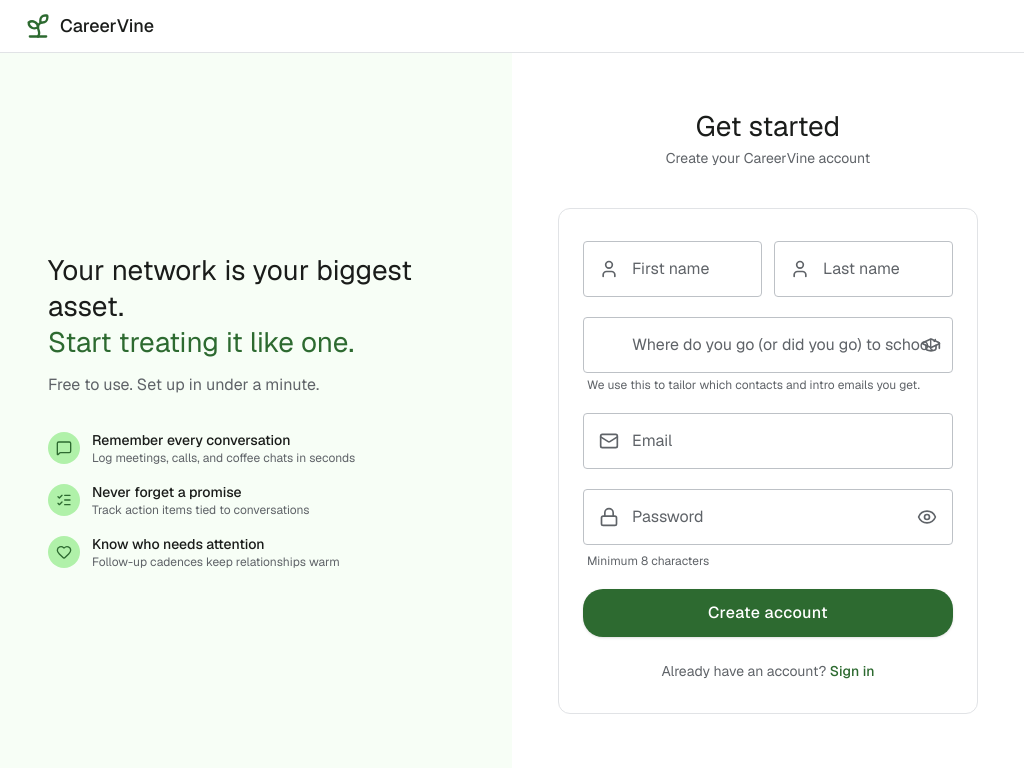
AuthForm — signup with an already-registered email › still shows the check-email screen for a genuinely new signup
Step 1. Type "Test" into the field with placeholder "First name" → (672, 268), box x1=583 y1=240 x2=762 y2=296
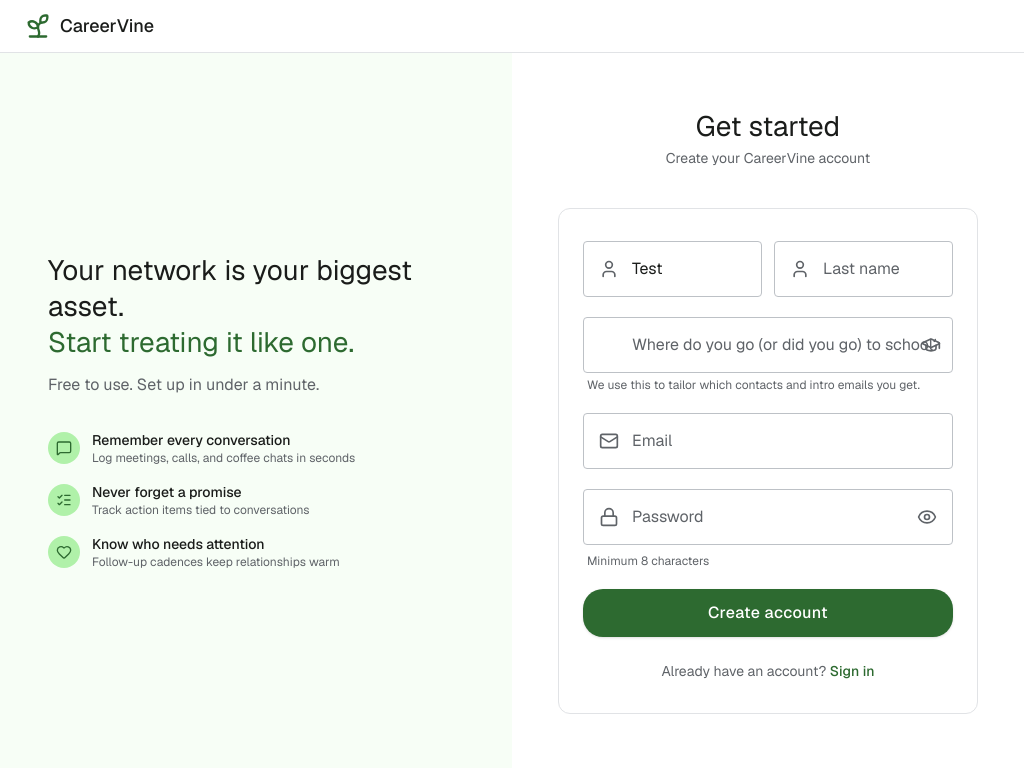
Step 2. Type "User" into the field with placeholder "Last name" → (864, 268), box x1=774 y1=240 x2=953 y2=296
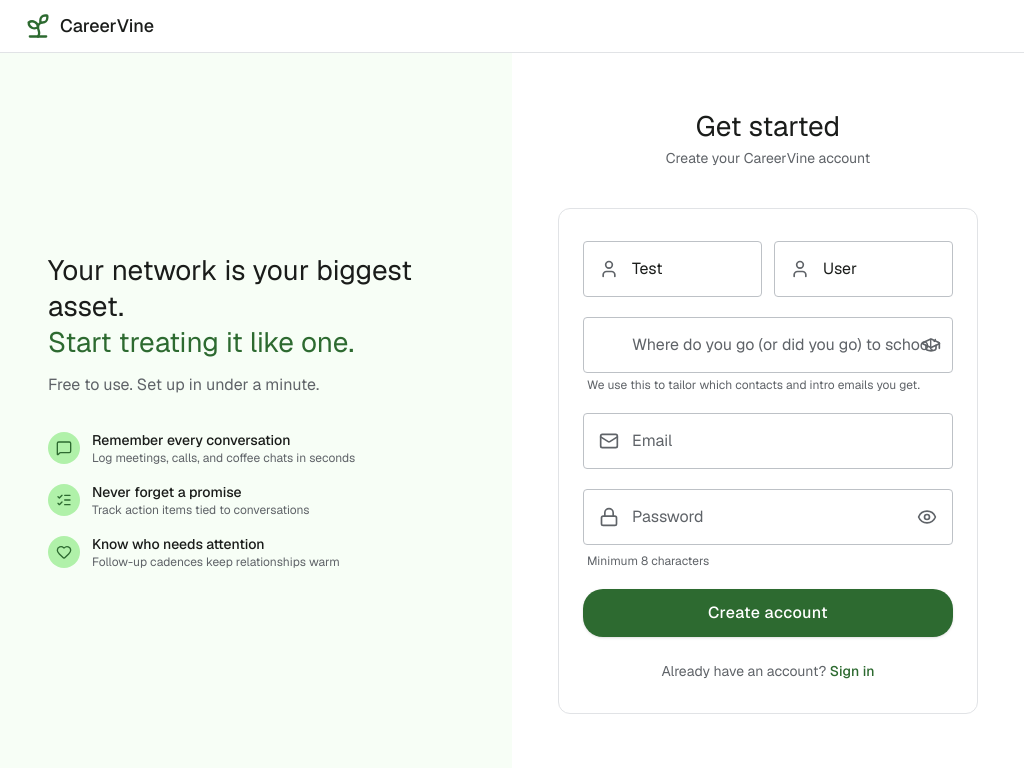
Step 3. Type "taken@example.com" into the field with placeholder "Email" → (768, 440), box x1=583 y1=412 x2=953 y2=468
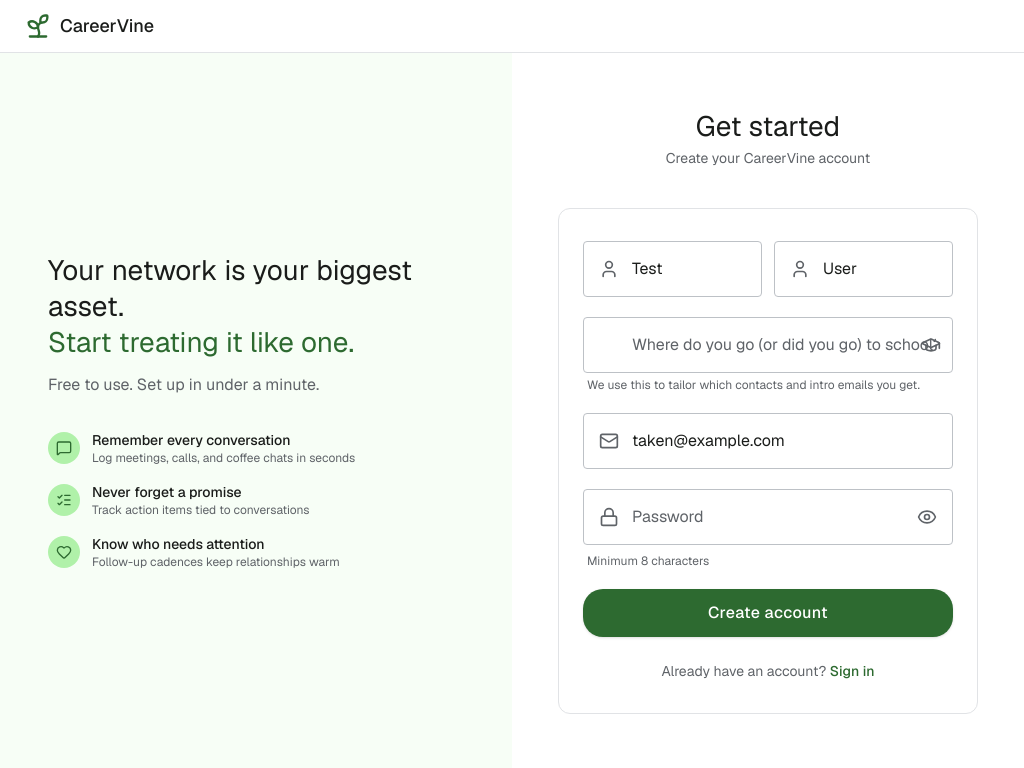
Step 4. Type "password123" into the password field with placeholder "Password" → (768, 516), box x1=583 y1=488 x2=953 y2=544
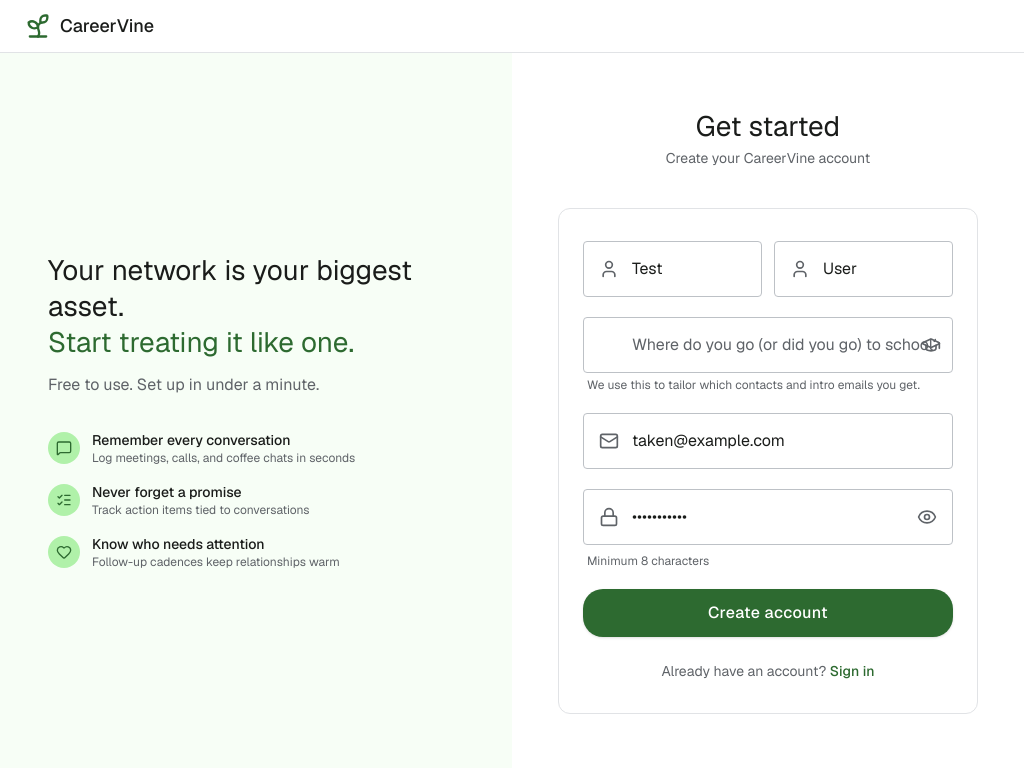
Step 5. Click the button "Create account" → (768, 612), box x1=583 y1=588 x2=953 y2=636
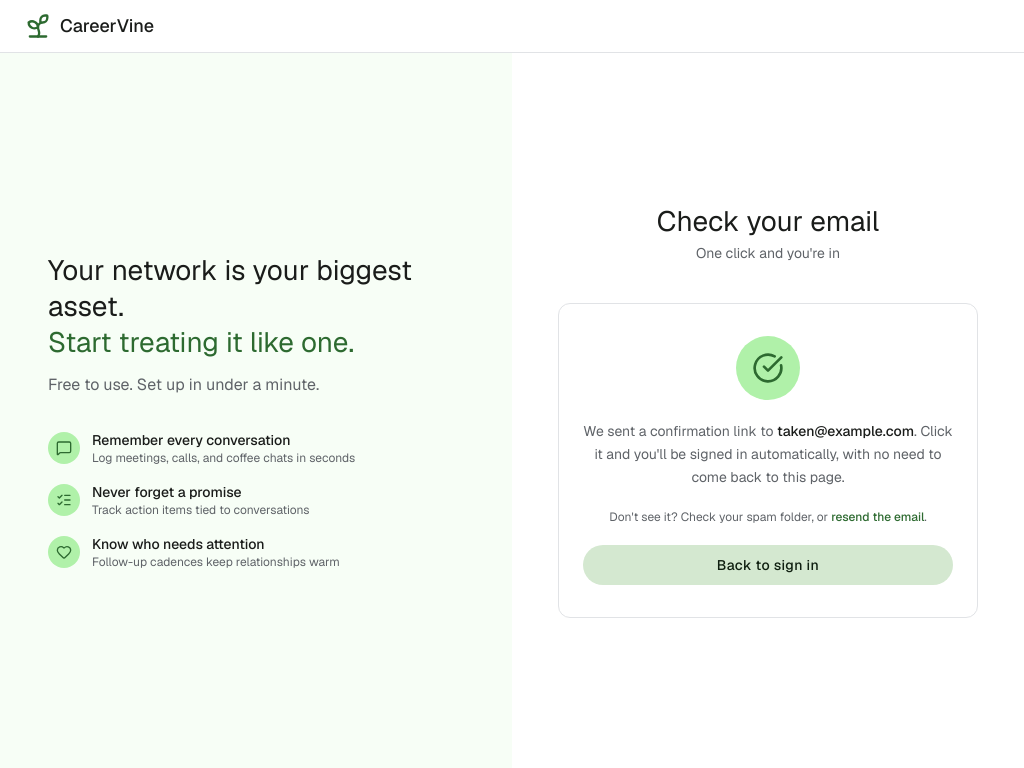
Check: the heading "Check your email" is shown, box x1=657 y1=203 x2=879 y2=239
